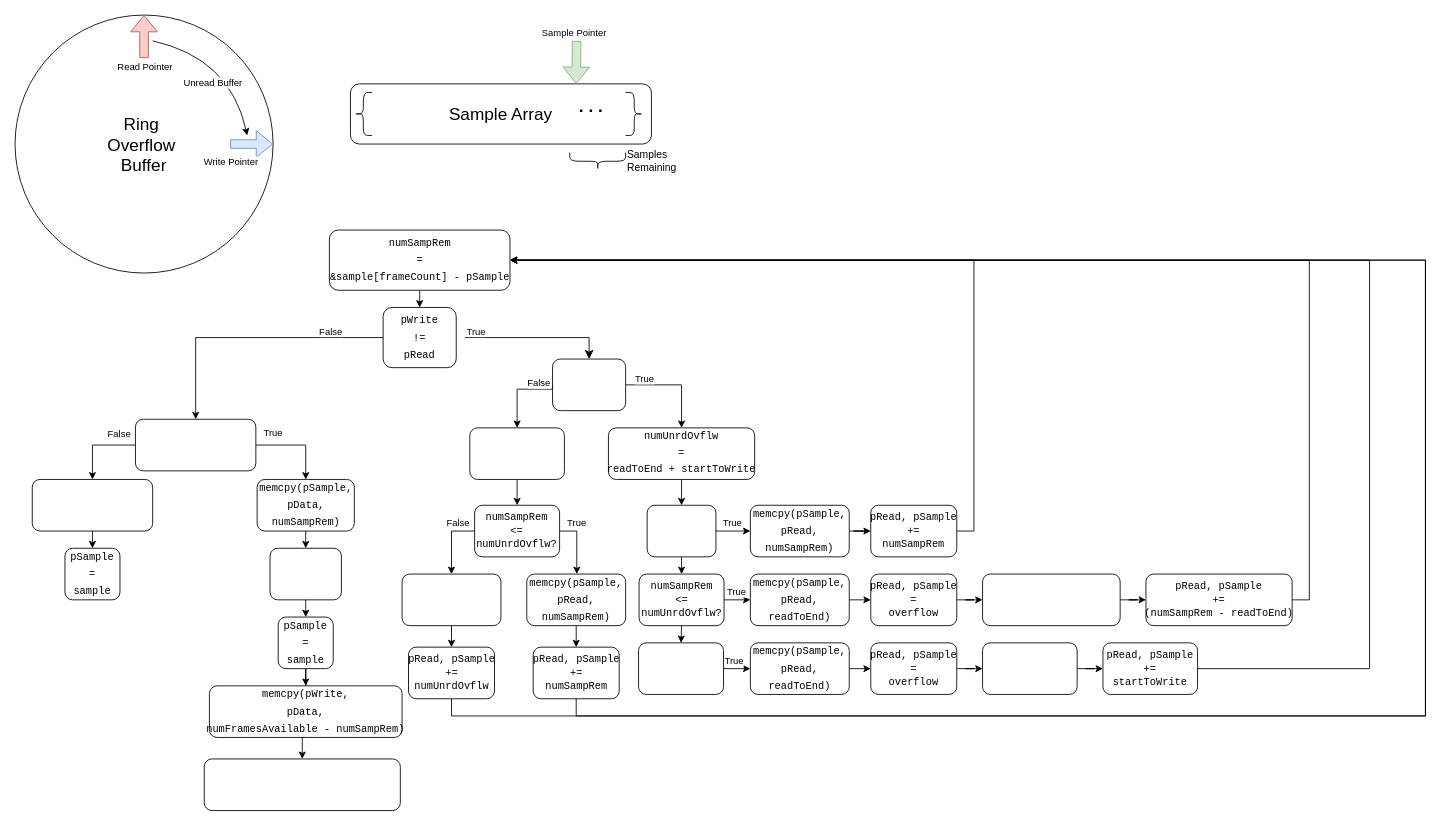
This 1447x826 diagram has some shape labels left out. The shapes that lost their labels are listed below. From the top down, each one's centre as x and y in pixels, then its label:
At point 589,384: "pWrite < pRead".
At point 195,444: "numSampRem <= numFramesAvailable ?".
At point 516,453: "numUnrdOvflw = pWrite - pRead".
At point 92,505: "memcpy(pSample, pData, numFramesAvailable )".
At point 681,530: "numSampRem <= readToEnd?".
At point 305,573: "pData += numSampRem".
At point 451,599: "memcpy(pSample, pRead, numUnrdOvflw )".
At point 1051,599: "memcpy(pSample, pRead, numSampRem - readToEnd )".
At point 681,668: "numSampRem > numUnrdOvflw ?".
At point 1029,668: "memcpy(pSample, pRead, startToWrite )".
At point 301,784: "pWrite += (numframesAvailible - numSampRem)".
